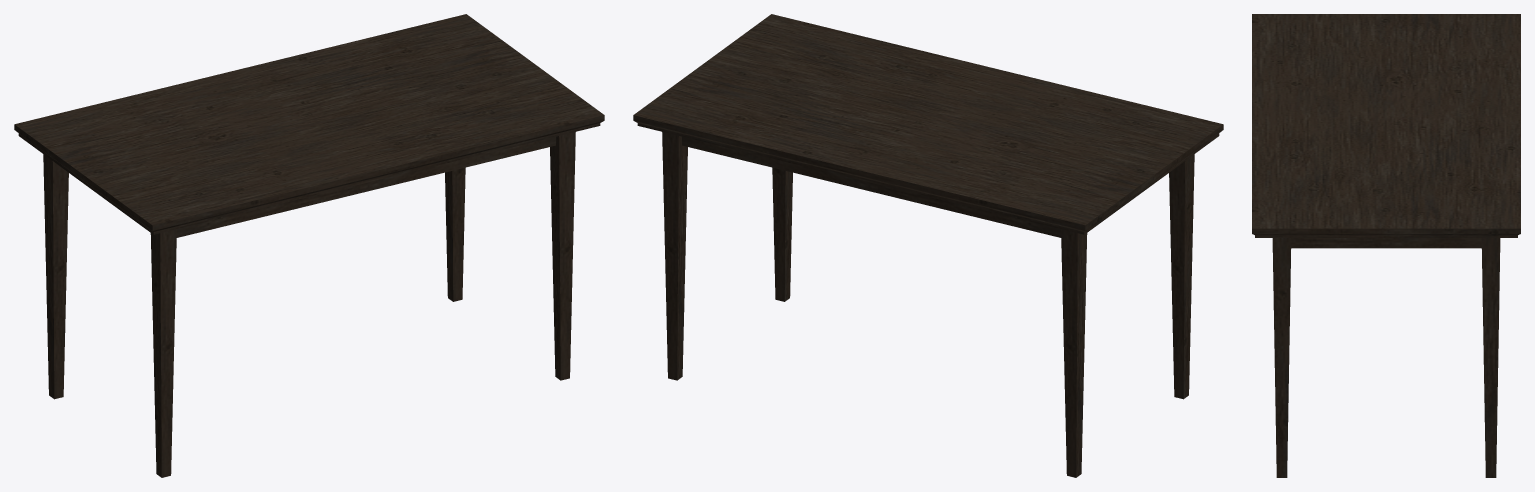
The model's file is table_large_2_2.obj.
The picture shows the model from 3 angles, left to right: view 1: azimuth 30°, elevation 25°; view 2: azimuth 150°, elevation 25°; view 3: azimuth 270°, elevation 25°; orthographic projection. The views are drawn at different scales.
Parts seen in each view (by area): view 1: table_large_2_2; view 2: table_large_2_2; view 3: table_large_2_2.
Part boxes in pixels (box(x1,y1,x2,y2)): table_large_2_2: box(14, 14, 604, 477); table_large_2_2: box(633, 14, 1223, 477); table_large_2_2: box(1252, 14, 1520, 477).
Bounding box in the file's own units: 1.7 × 0.96 × 0.9.
